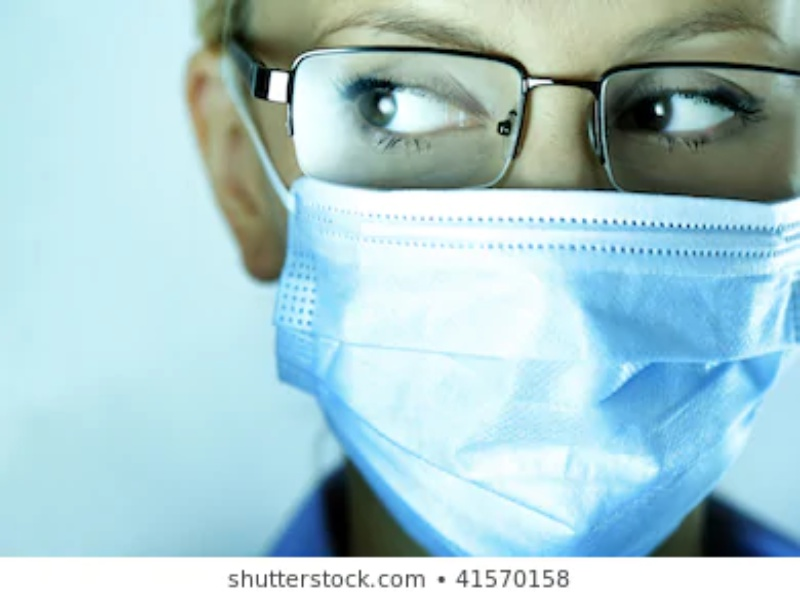ManaoArotava: (162, 10, 799, 584)
